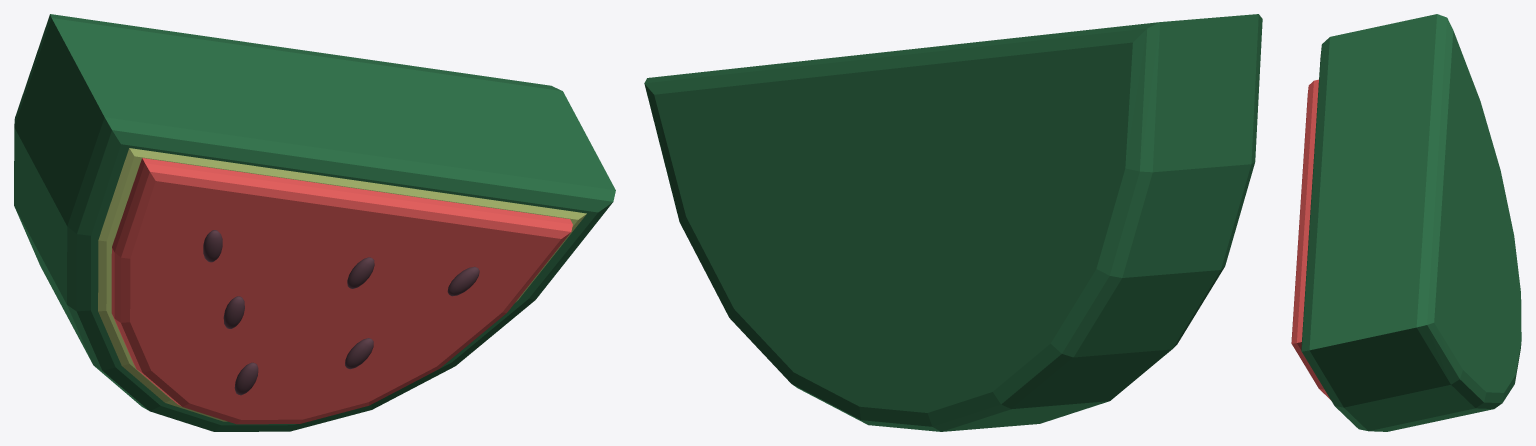
File: watermelon.glb
3 renders of one model, left to right at view 1: azimuth 30°, elevation 25°; view 2: azimuth 150°, elevation 25°; view 3: azimuth 270°, elevation 25°, orthographic. The views are drawn at different scales.
Visible parts, largest first — view 1: watermelon; view 2: watermelon; view 3: watermelon.
Boxes of the visible parts, <box> form: watermelon: <box>14,14,615,431</box>; watermelon: <box>644,14,1262,431</box>; watermelon: <box>1291,14,1521,431</box>.
Bounding box in the file's own units: 0.9594 × 0.7599 × 0.4891.
